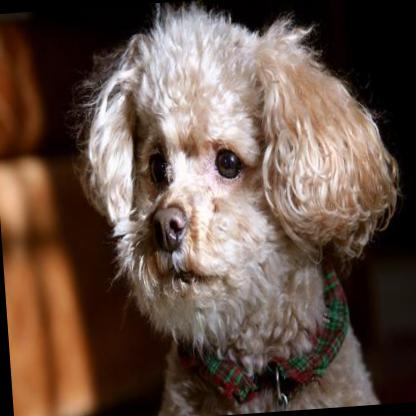toy_poodle: (54, 0, 416, 416)
